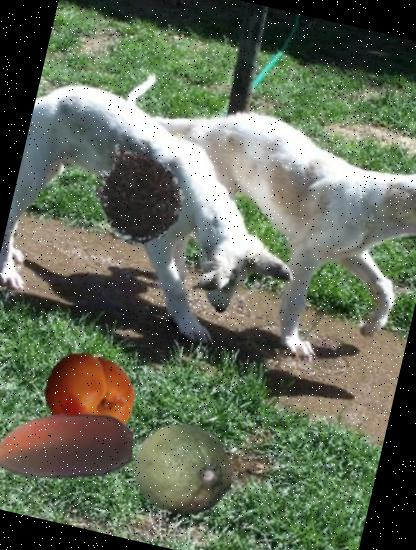Apricot: (34, 342, 144, 452)
Hazelnut: (0, 359, 147, 532)
Limes: (123, 412, 243, 532)
Pepino: (113, 179, 175, 241)
Rambutan: (78, 128, 203, 253)
